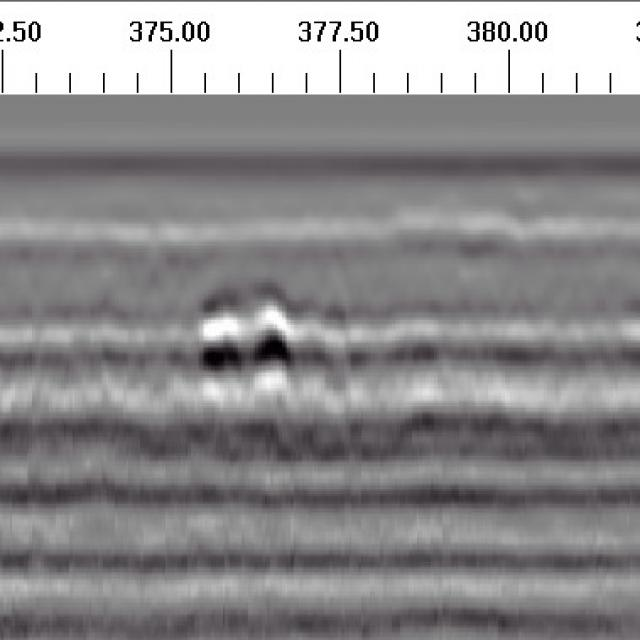loose: (185, 280, 340, 426)
